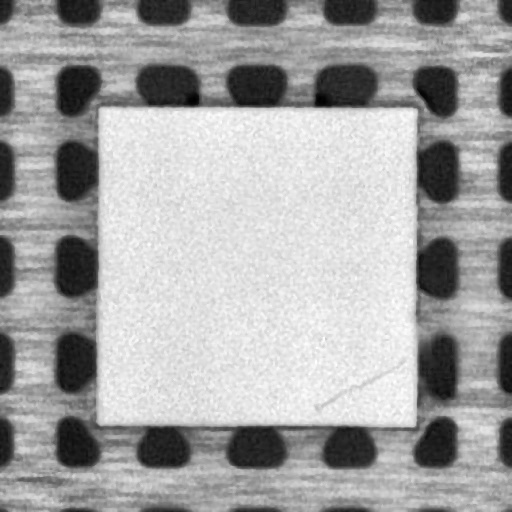DIE_CRACK: (320, 358, 401, 409)
